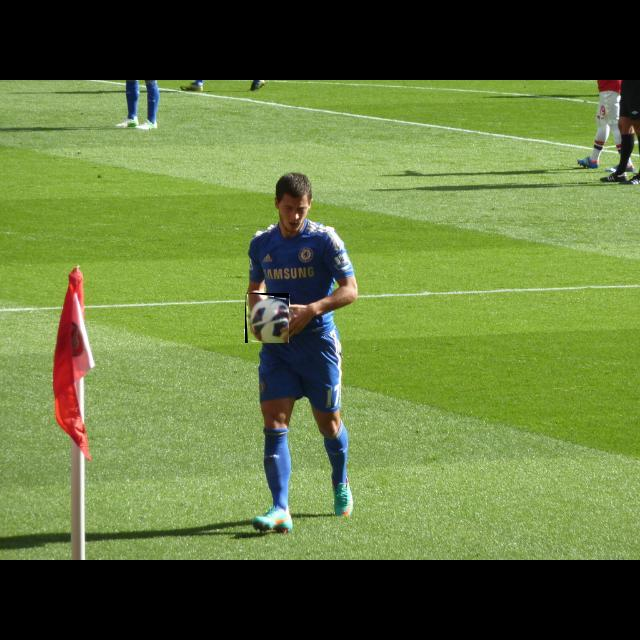Football: (245, 293, 289, 343)
